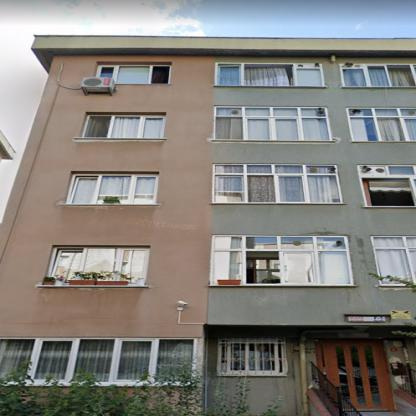door: (331, 344, 385, 408)
window: (0, 339, 195, 381), (212, 236, 352, 284), (212, 164, 340, 202), (214, 108, 330, 140), (49, 248, 150, 284), (69, 176, 157, 204), (217, 63, 322, 86), (359, 165, 415, 207), (348, 108, 416, 140), (371, 236, 415, 285), (82, 115, 164, 139), (221, 342, 283, 373), (342, 65, 415, 86), (99, 65, 170, 84)
